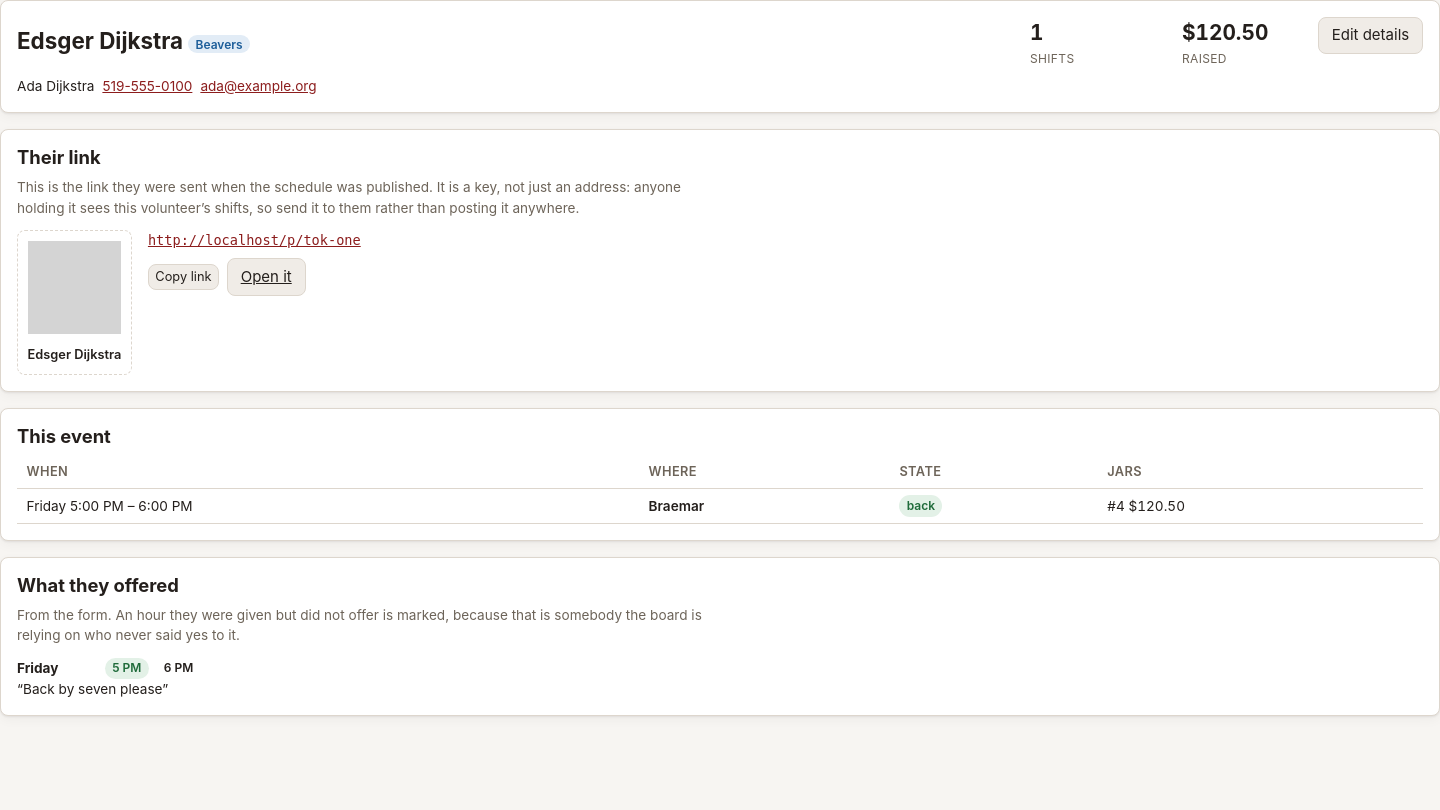
Test: correcting their details › will not save somebody with no first name
Click the button "Edit details" at (1370, 36), box [1318,17,1423,54]
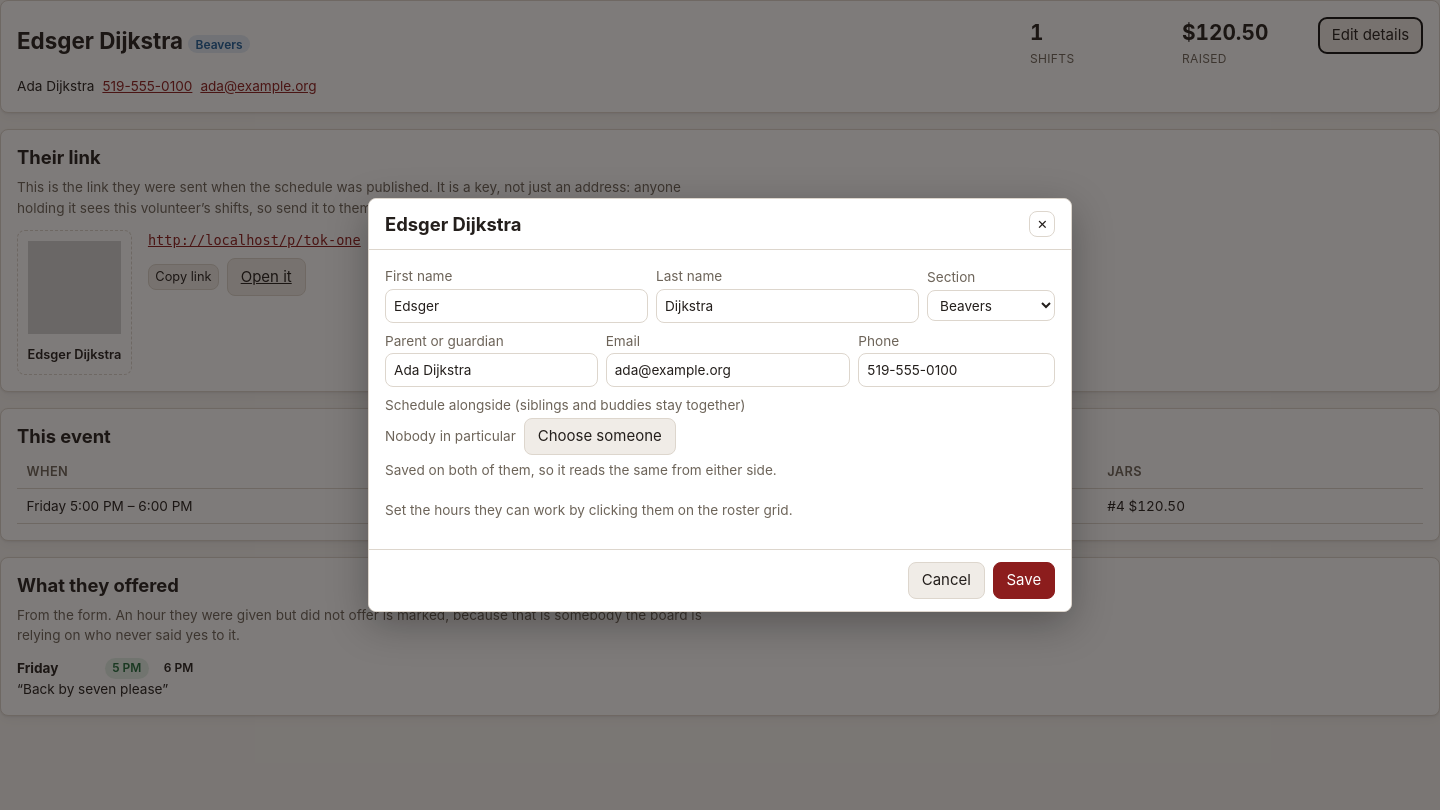
Clear the field labelled "First name" at (516, 306), box [385,289,648,322]
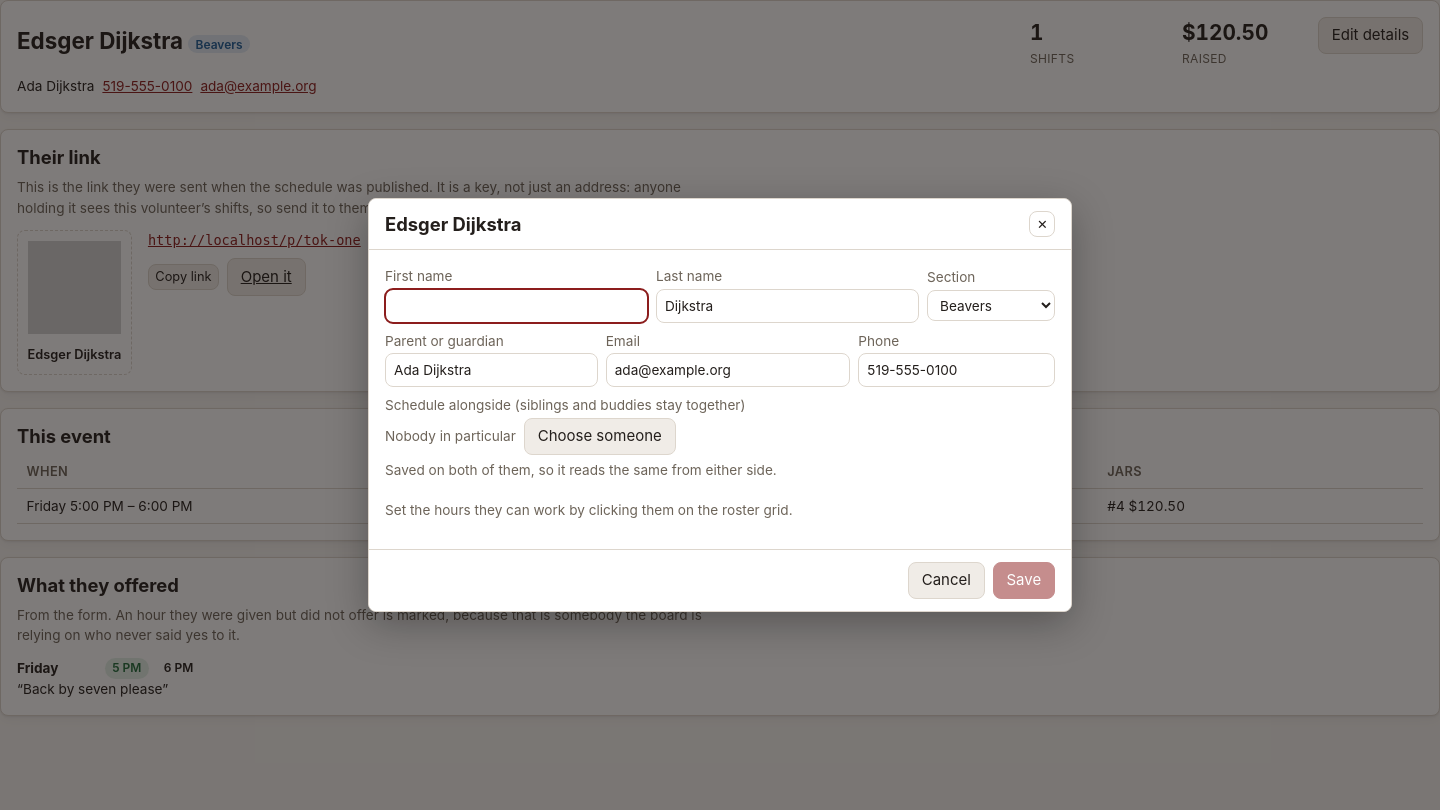
Check: the button "Save" is disabled, box [993,562,1055,599]
